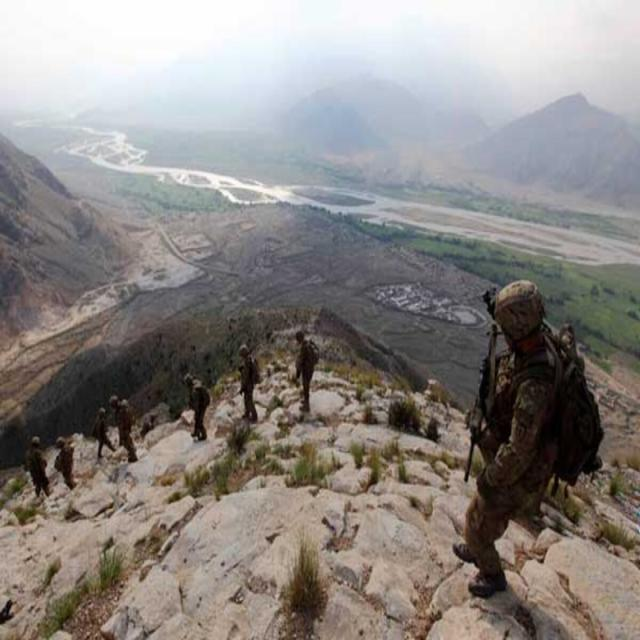Militant: (442, 263, 611, 611), (282, 319, 331, 433), (174, 357, 217, 464), (232, 341, 268, 445), (104, 393, 140, 478), (49, 421, 79, 499), (28, 437, 55, 511)
